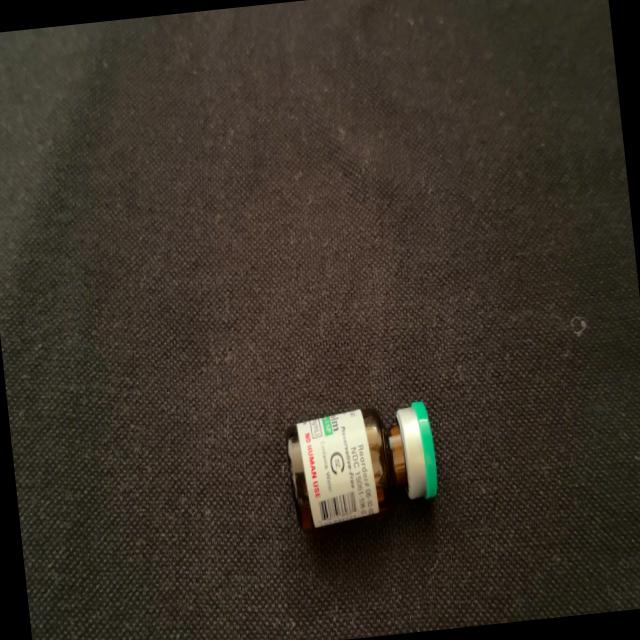midazolm: (286, 402, 438, 530)
